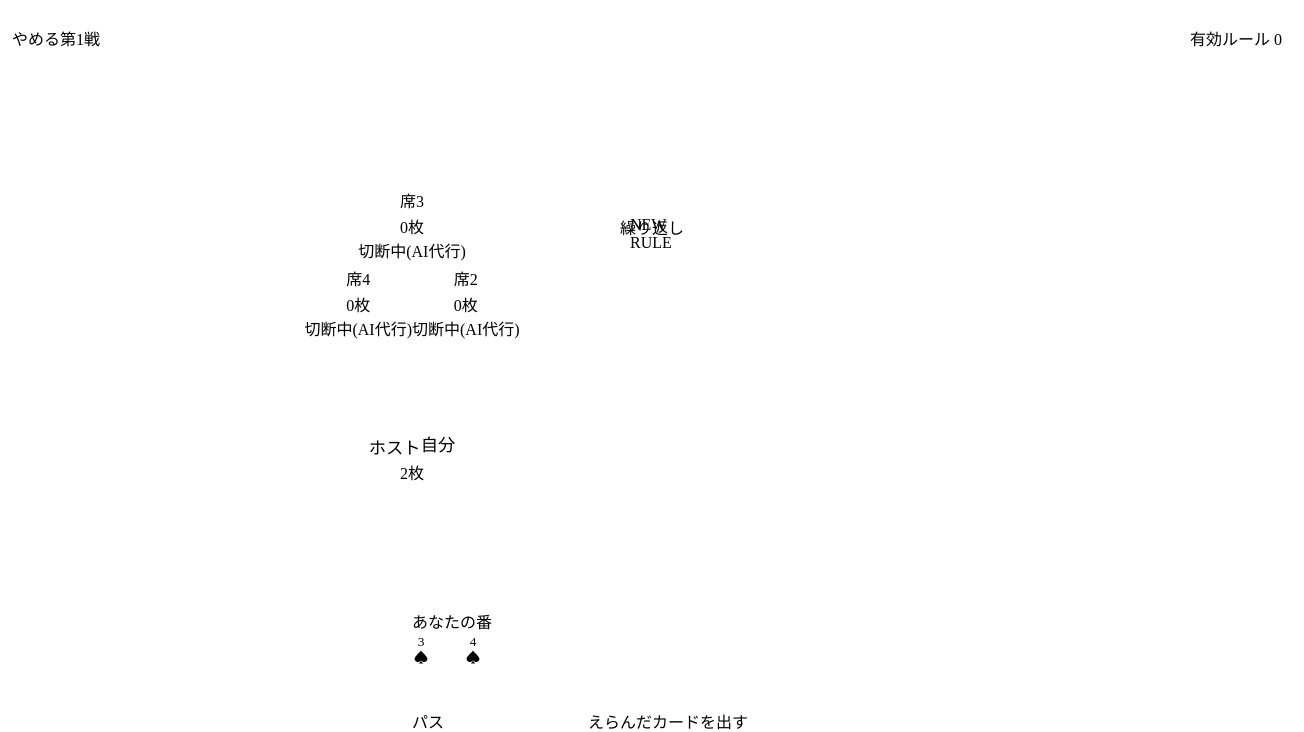
Scenario: CX-06: 実ルール発動イベントの演出 › 後続ボレーを順に再生し、別roomでも同一App sessionの既見を維持する
Expected: the text "NEW RULE" is shown, [630,216,672,251]
Click the button named "演出をとばす" at (652, 372), box [12,12,1292,731]
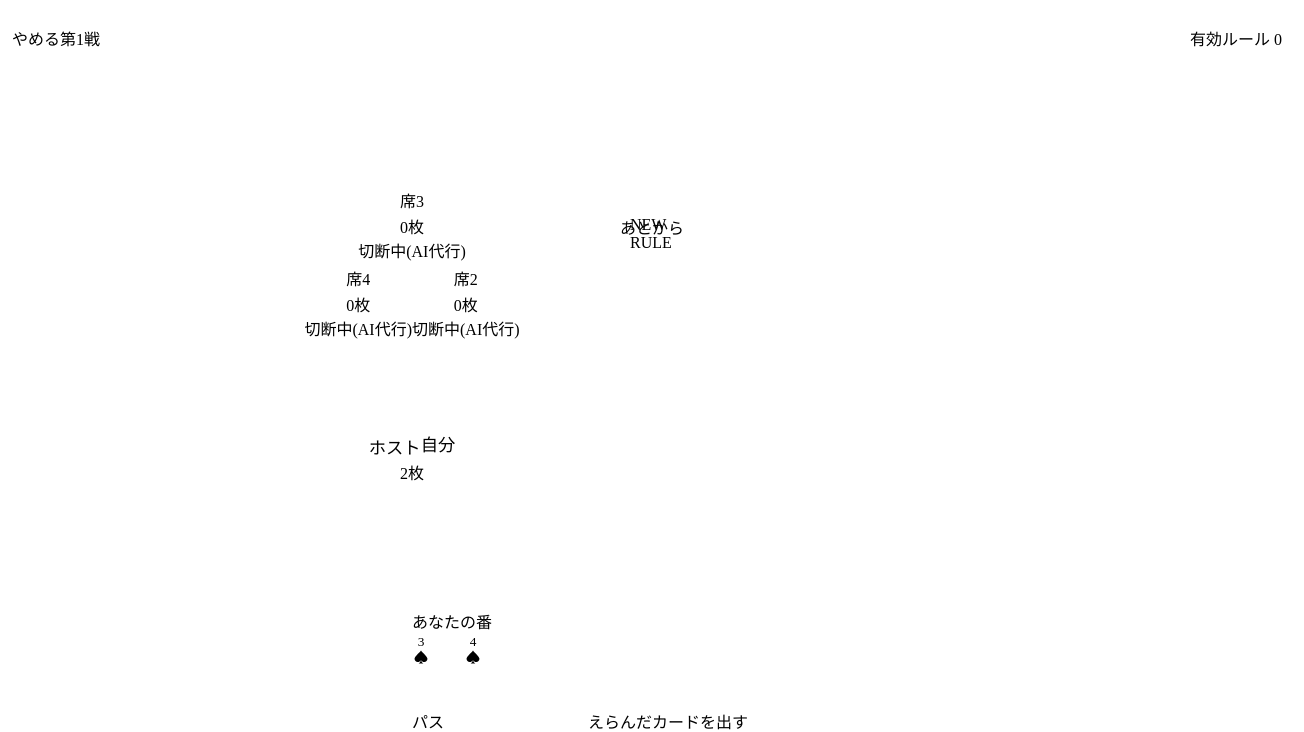
Expected: the text "あとから" is shown, [620,215,684,239]
Click the button named "演出をとばす" at (652, 372), box [12,12,1292,731]
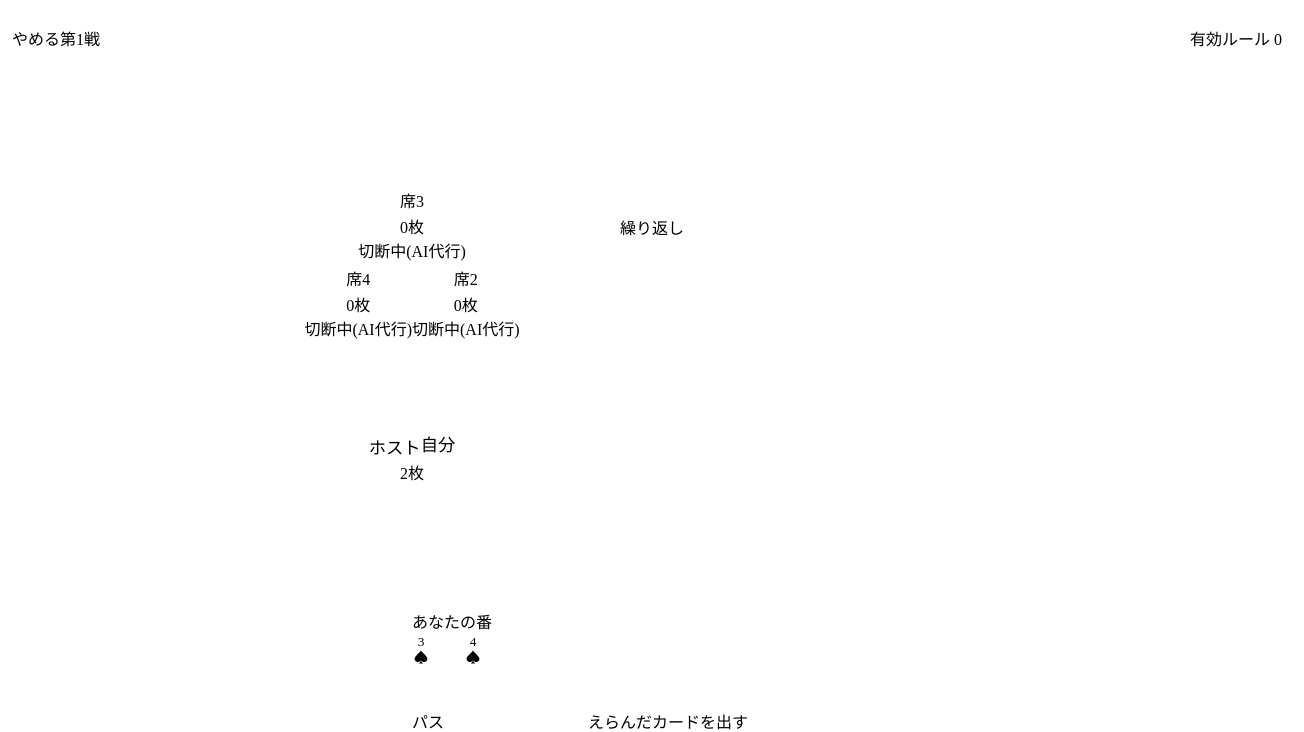
Expected: the text "繰り返し" is shown, [620,215,684,239]
Expected: the text "NEW RULE" is gone
